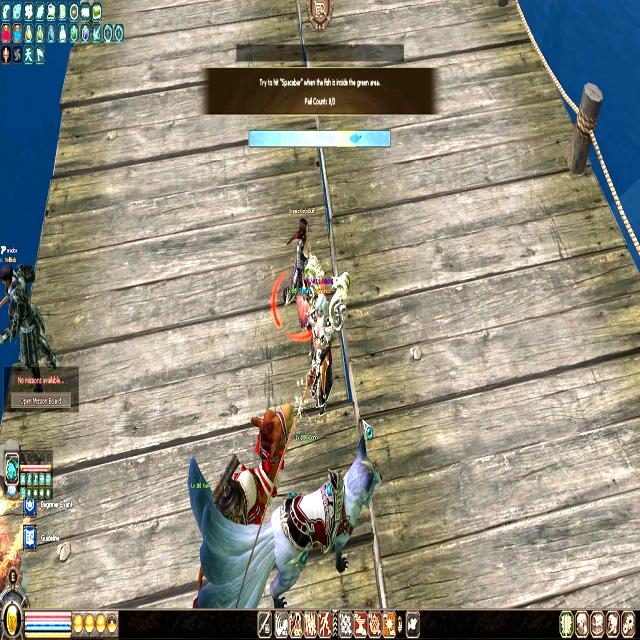fishes: (348, 132, 363, 146)
